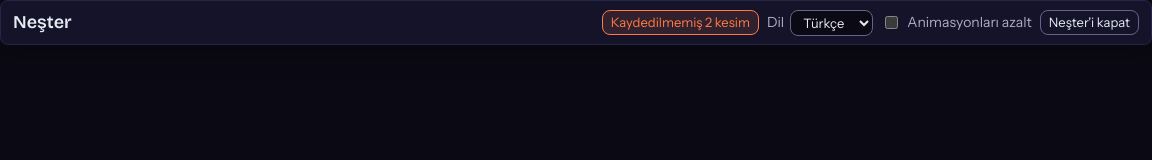
Test case: the basket button counts the cuts and opens the comparison
The image size is (1152, 160).
Click the button "Kaydedilmemiş 2 kesim" at (680, 23), box x1=602 y1=10 x2=759 y2=35
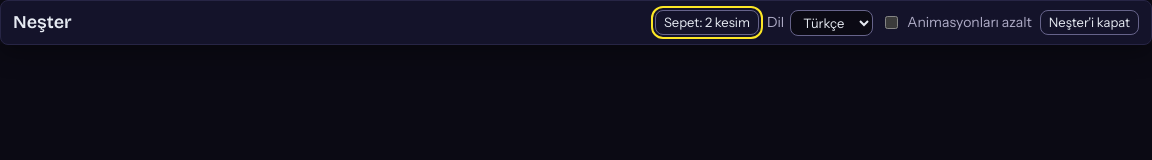
Expected: the button "Sepet: 2 kesim" is shown, x1=655 y1=10 x2=759 y2=35
